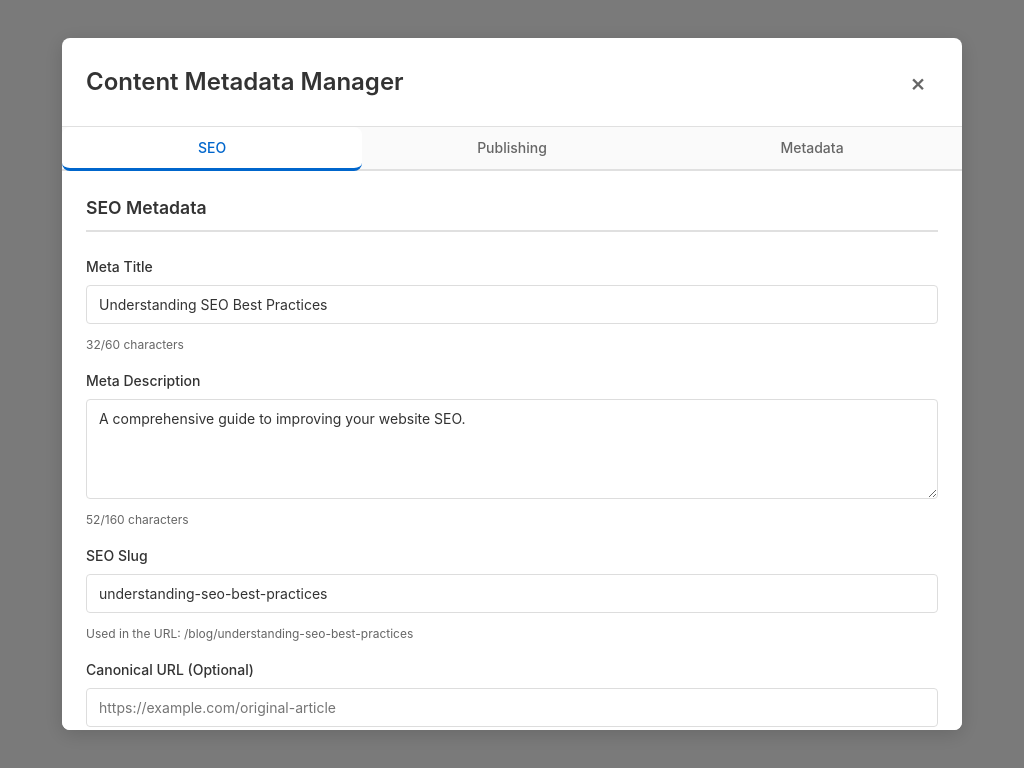
Test: ContentMetadataManager Component › Publishing Tab › shows scheduled time picker for future dates
Click the tab "Publishing" at (512, 149), box top-left (362, 127), bottom-right (662, 171)
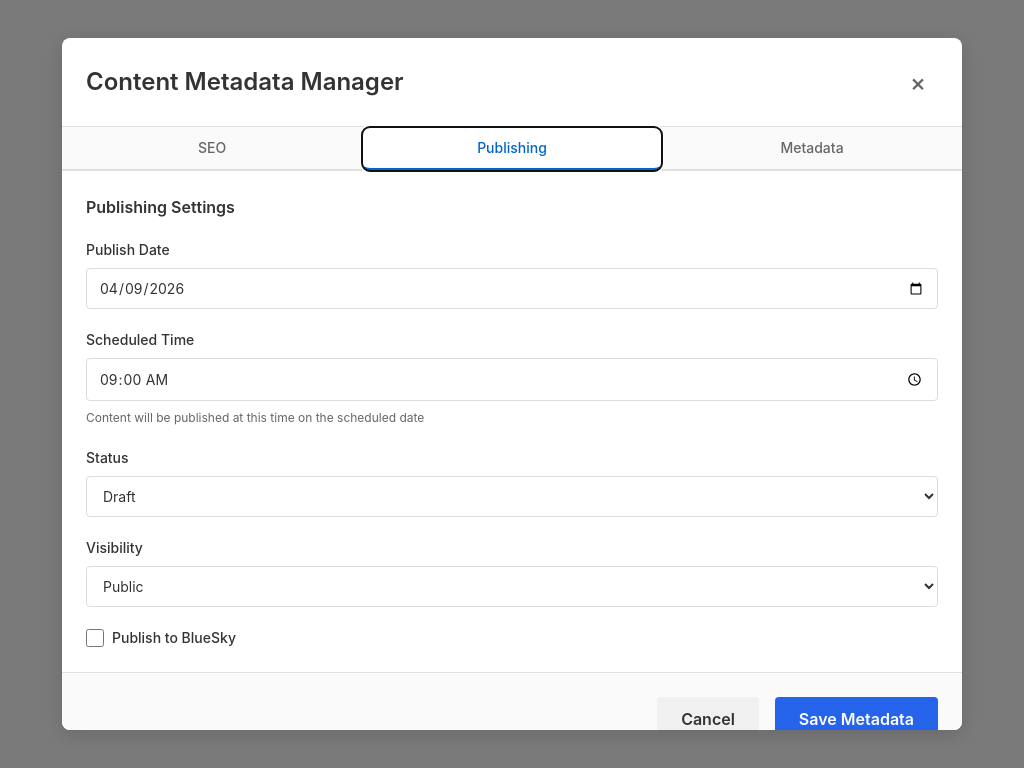
Expected: the time field labelled "Scheduled Time" is shown, top-left (86, 358), bottom-right (938, 401)
